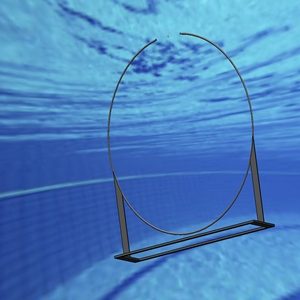circle: (105, 30, 277, 264)
